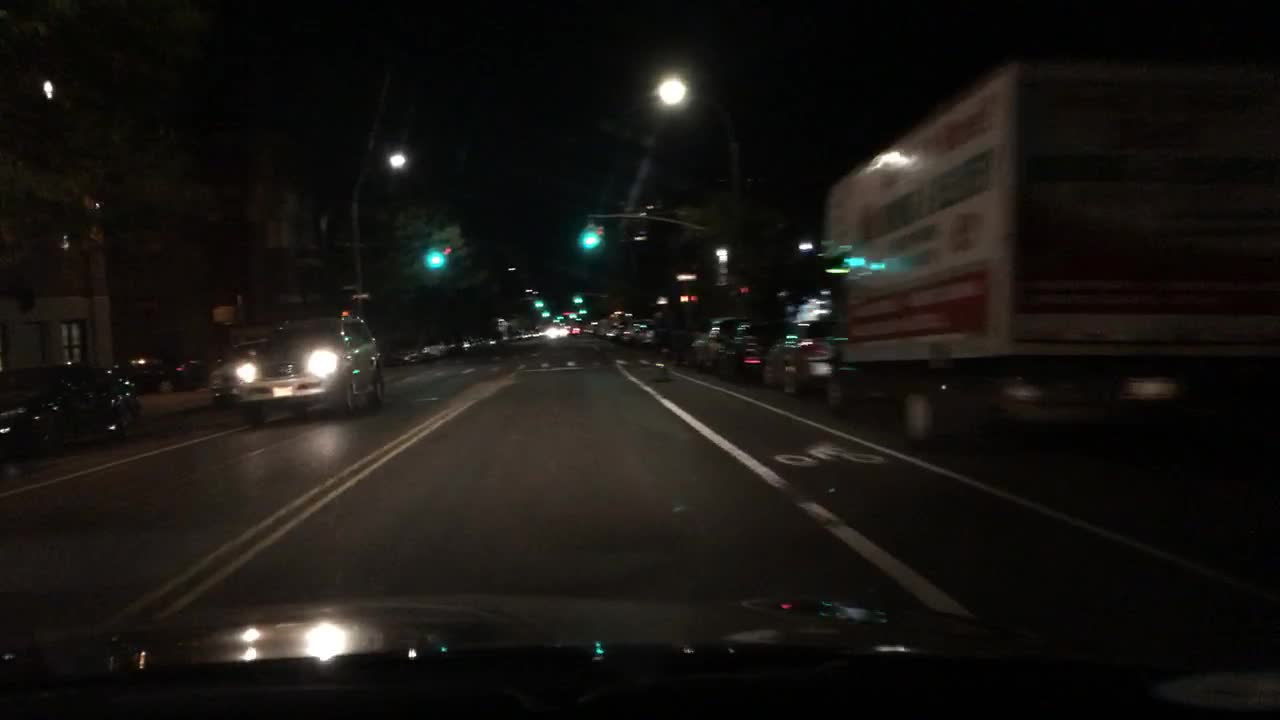car: (236, 312, 383, 424), (0, 360, 142, 459), (758, 321, 828, 395), (713, 320, 797, 381), (124, 350, 221, 393), (205, 337, 264, 402), (687, 316, 747, 368), (661, 316, 703, 364), (635, 321, 663, 350), (403, 346, 434, 366), (436, 336, 468, 355), (602, 322, 623, 343), (420, 341, 444, 358), (622, 322, 639, 346), (461, 333, 486, 348), (501, 327, 517, 342), (483, 331, 502, 343), (582, 321, 597, 336), (514, 326, 531, 339), (597, 319, 608, 336), (549, 326, 567, 336), (567, 325, 583, 335), (527, 326, 540, 338), (537, 324, 549, 336)
traffic light: (423, 243, 446, 272), (213, 304, 239, 324), (581, 226, 596, 250), (595, 225, 605, 250), (441, 246, 451, 271), (534, 297, 545, 310), (570, 295, 583, 304)
traffic sign: (341, 283, 360, 292), (354, 291, 370, 301)
truck: (821, 59, 1276, 447)
